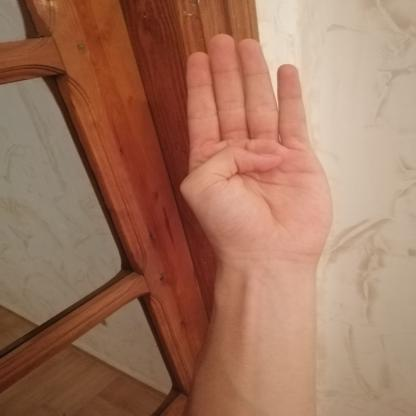KAAF: (156, 22, 352, 275)
